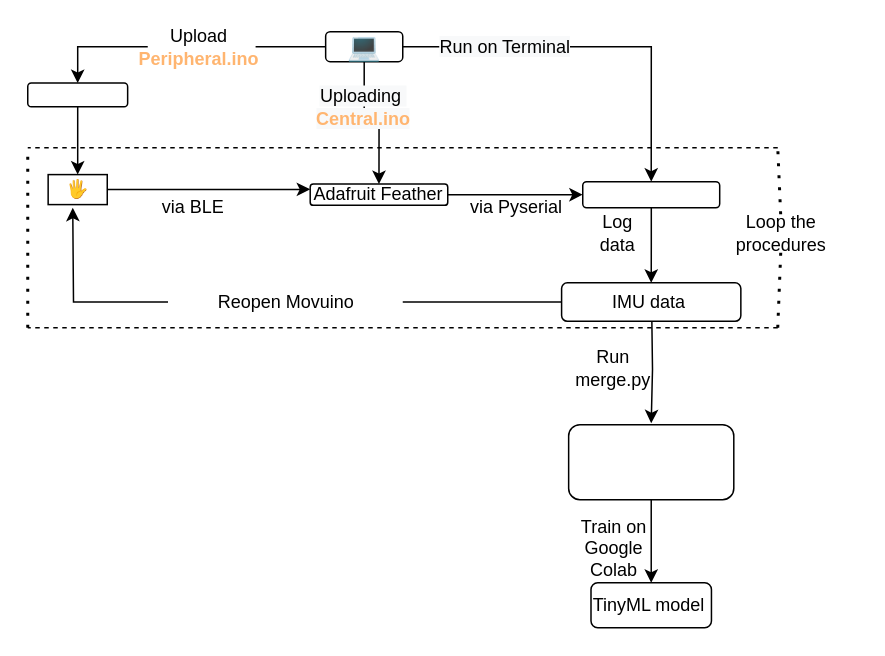
Some shapes in this 885 by 656 pixel diagram are drawn without their labels. The centre of each missing label's shape, as x and y in pixels:
extract_imu.py: the point at 650,194
Merged IMU Data File: the point at 650,461
Movuino: the point at 77,94
